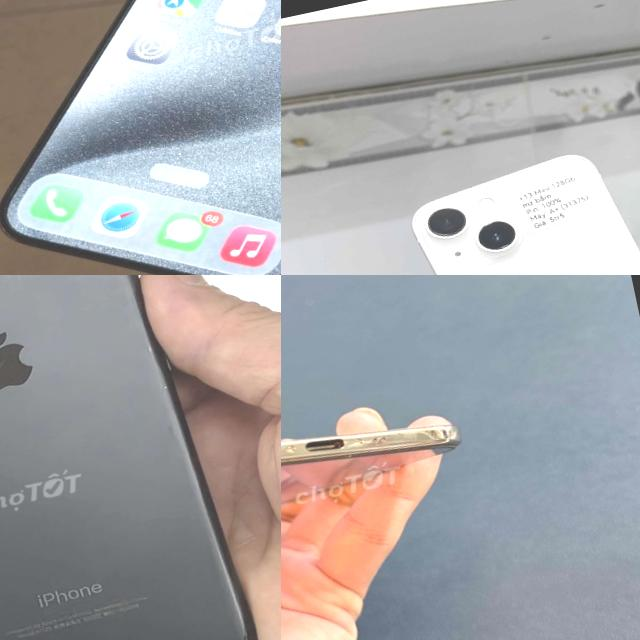gen_12_13: (399, 128, 640, 275)
gen_15: (0, 0, 281, 275)
gen_7_8: (0, 275, 281, 640)
